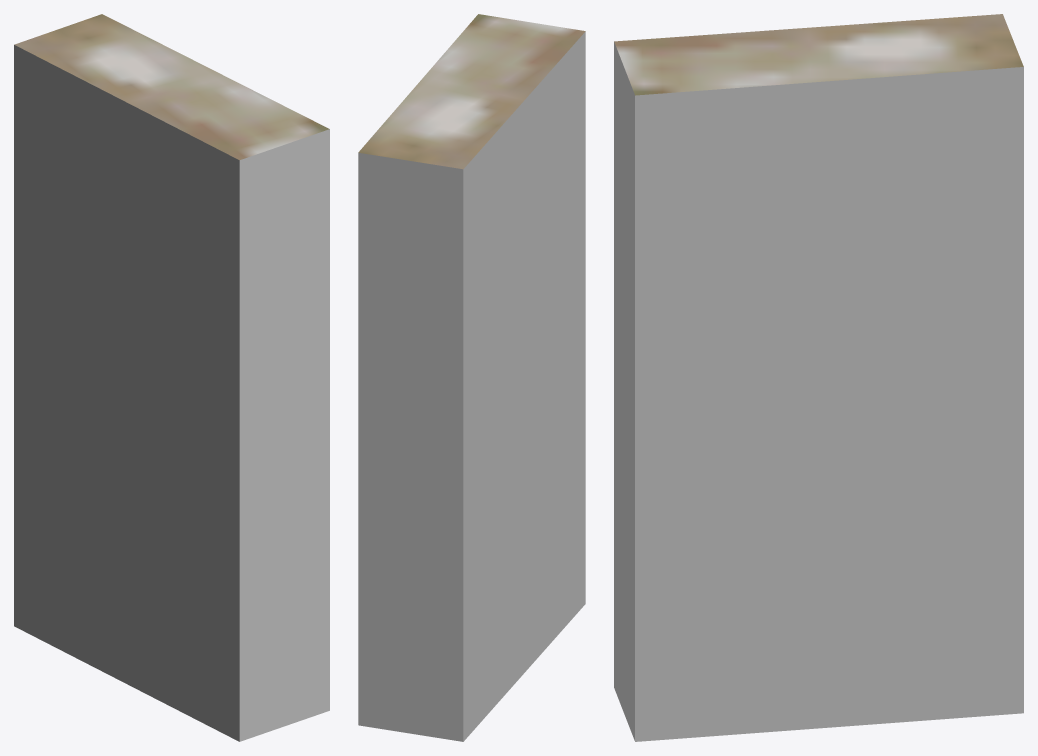
Rendered from DEBW_0010007THYZ.gltf.
3 renders of one model, left to right at view 1: azimuth 30°, elevation 25°; view 2: azimuth 150°, elevation 25°; view 3: azimuth 270°, elevation 25°, orthographic. The views are drawn at different scales.
Parts seen in each view (by area): view 1: Z_UP; view 2: Z_UP; view 3: Z_UP.
Boxes of the visible parts, <box> form: Z_UP: <box>14,14,329,741</box>; Z_UP: <box>358,14,585,741</box>; Z_UP: <box>614,14,1023,741</box>.
Bounding box in the file's own units: 2.02 × 7.47 × 4.29.
2 materials, 1 textured.
